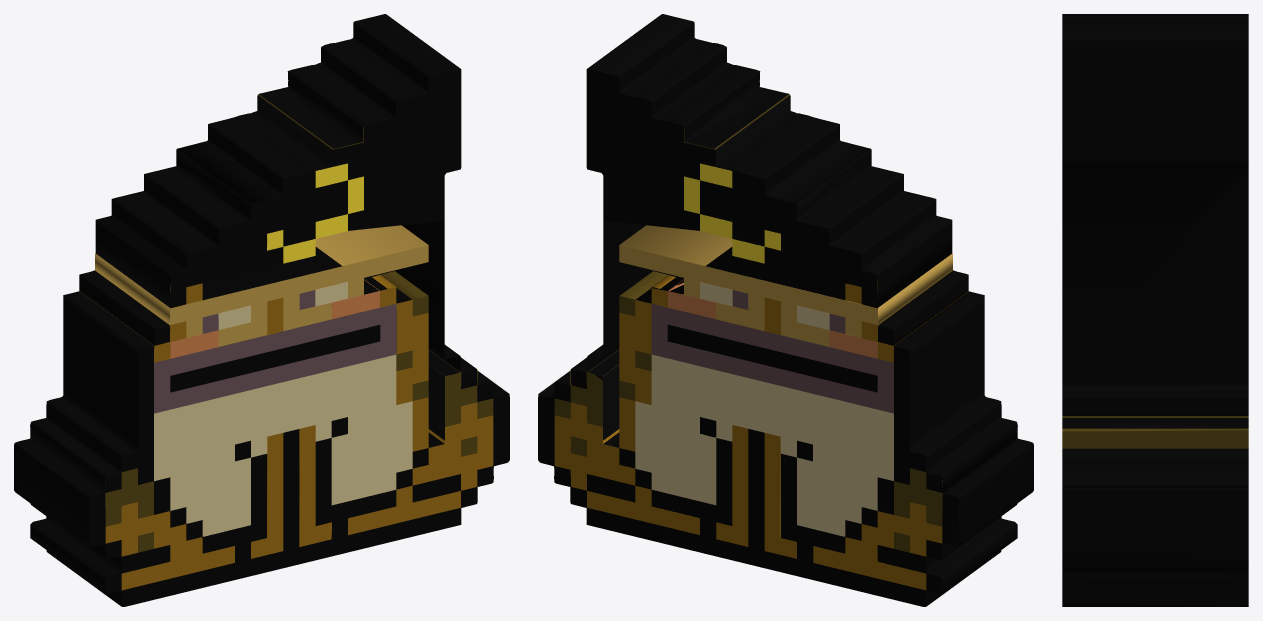
The model's file is Toadz_3109.glb.
3 views of the same model, side by side, from view 1: azimuth 30°, elevation 25°; view 2: azimuth 150°, elevation 25°; view 3: azimuth 270°, elevation 25° (orthographic). The views are drawn at different scales.
Parts seen in each view (by area): view 1: Curve; view 2: Curve; view 3: Curve.
Part boxes in pixels (x1,y1,x2,y2): Curve: (14,14,509,606); Curve: (538,14,1033,606); Curve: (1062,14,1248,606).
Size of the model in its own units: 3.24 by 3.36 by 1.
